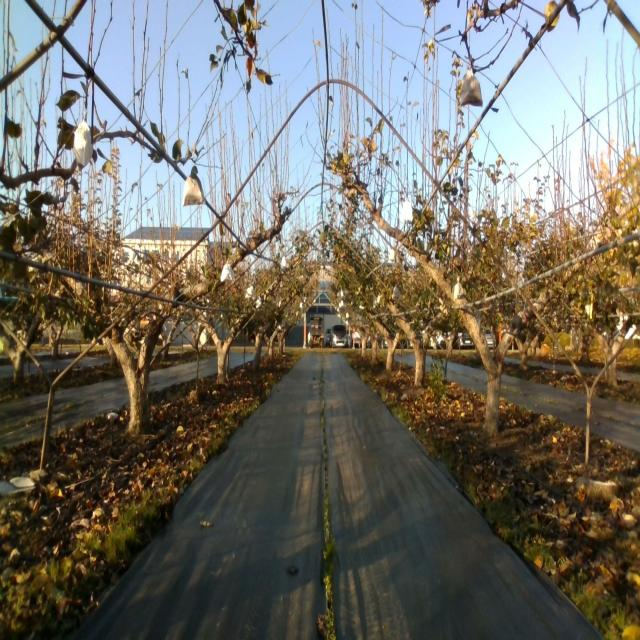pearbags: (182, 164, 206, 206), (73, 120, 93, 168), (459, 72, 483, 109), (220, 260, 236, 284), (400, 196, 413, 222)
